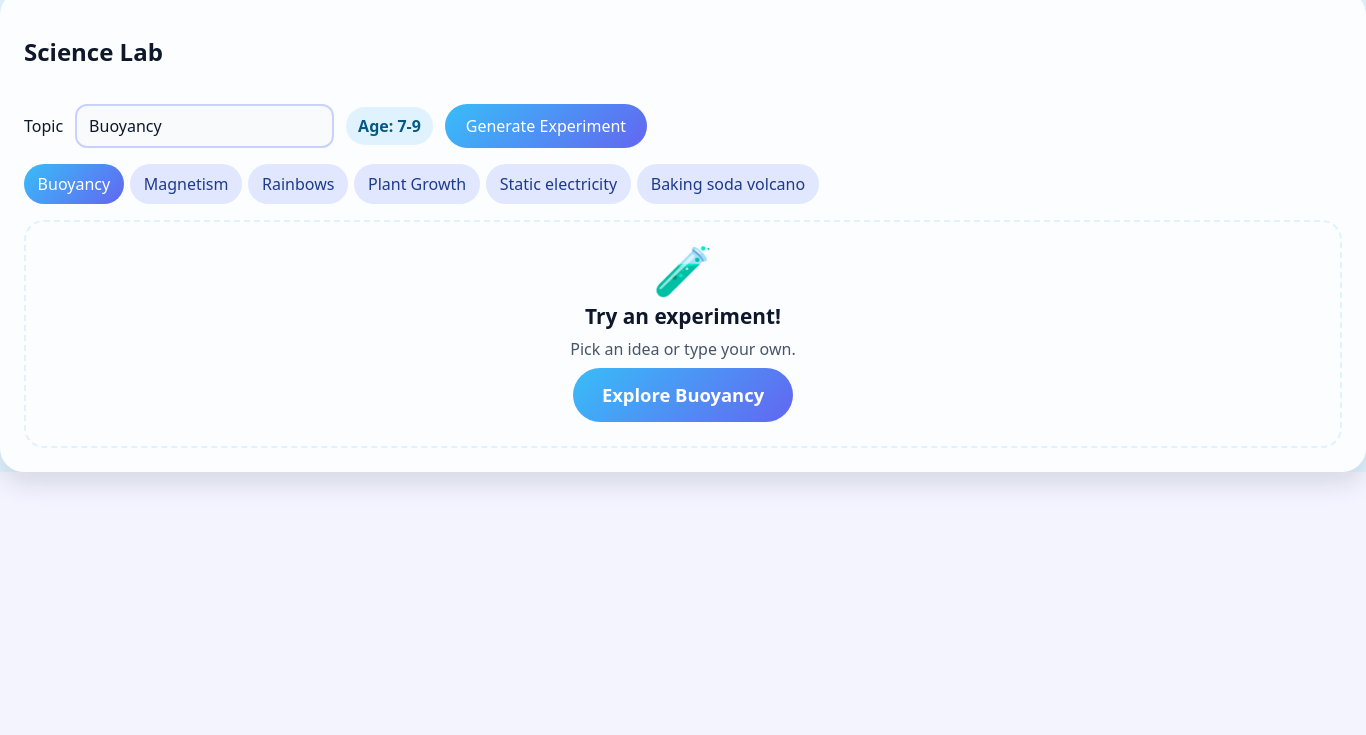
Test: ScienceLab step progression › returns from prediction to the final instruction step
The width and height of the screenshot is (1366, 735).
Click the button "Generate Experiment" at (546, 126), box [445,104,647,148]
(page scrolled)
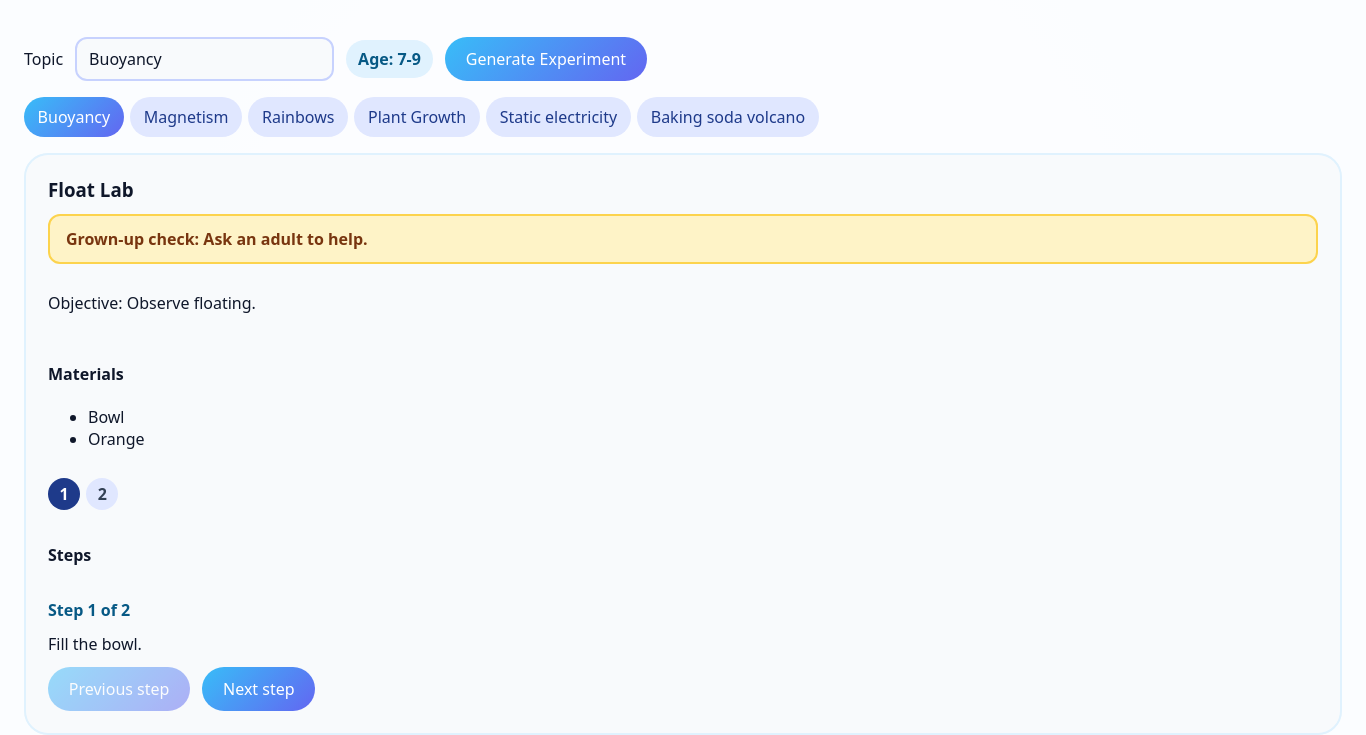
Result: the heading "Float Lab" is shown at [48,177,134,202]
Click the button "Next step" at (259, 689), box [202,667,315,711]
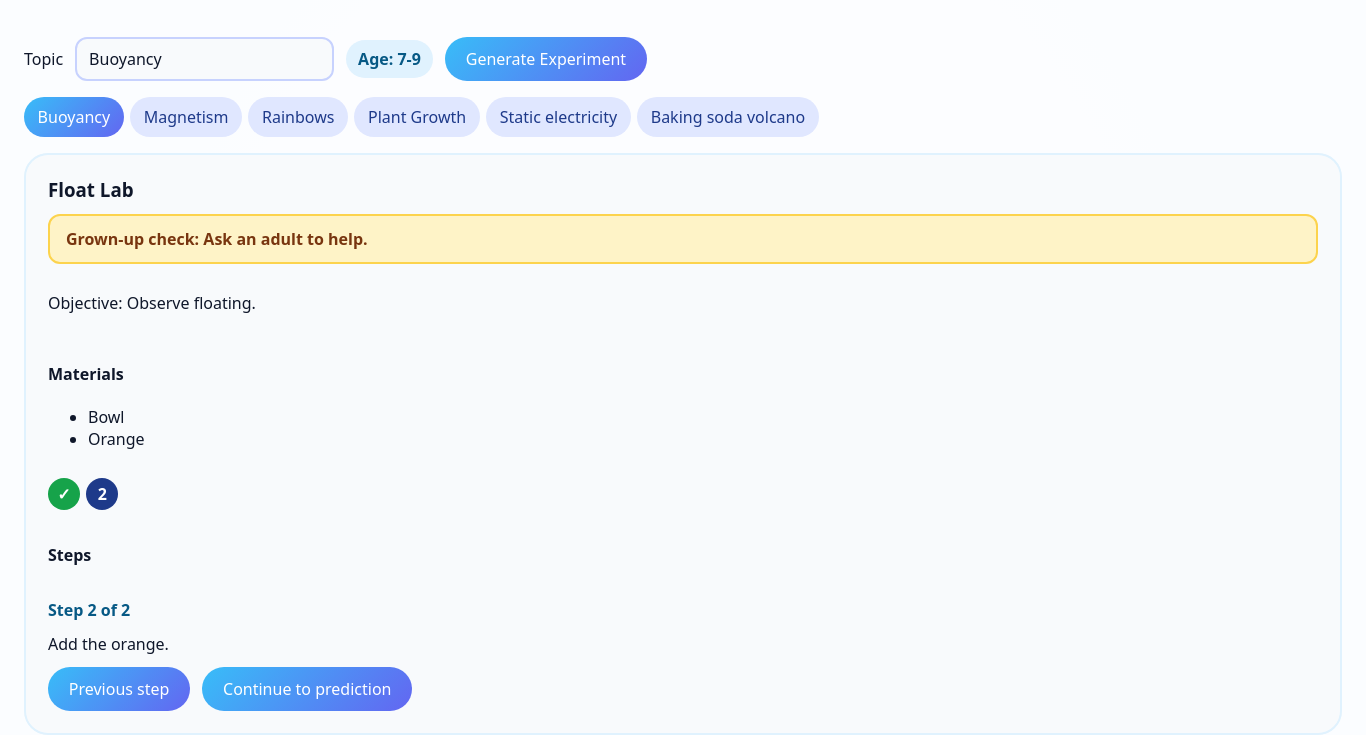
Click the button "Continue to prediction" at (307, 689), box [202,667,412,711]
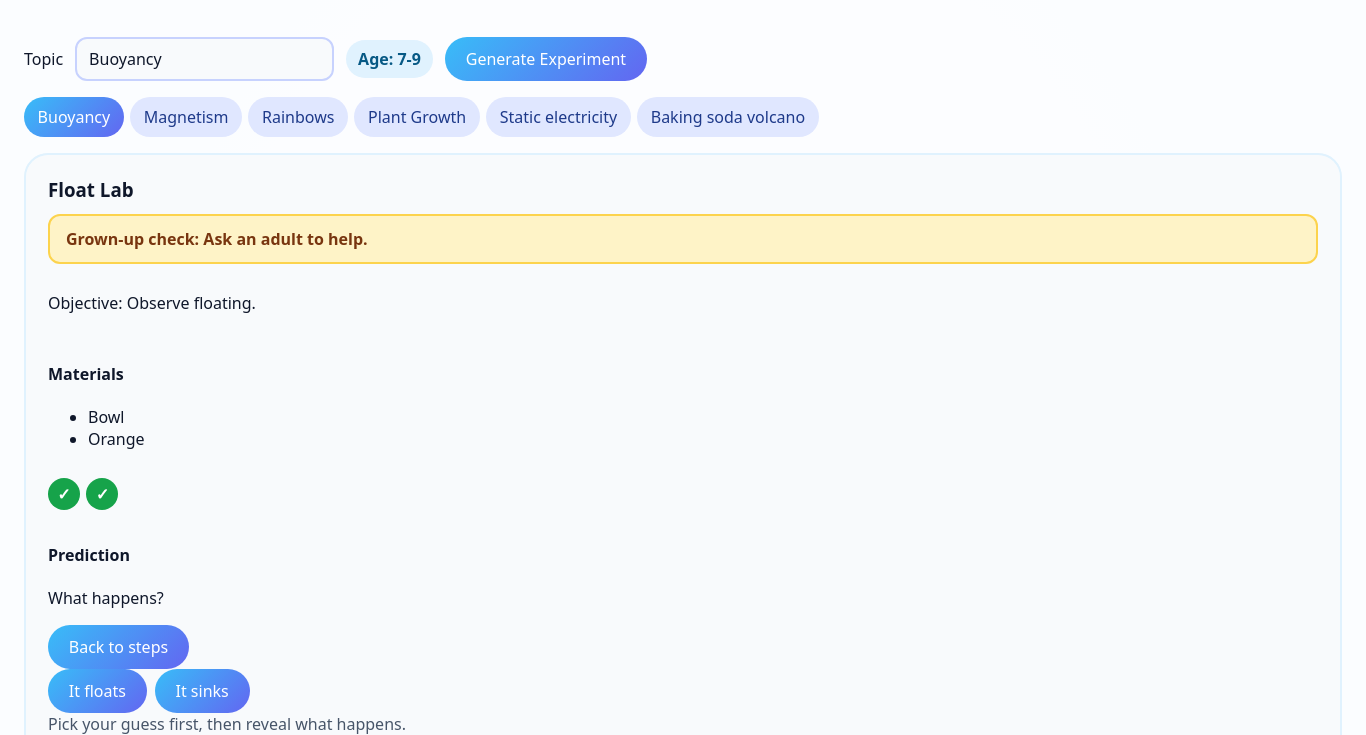
Click the button "Back to steps" at (118, 647), box [48,625,189,669]
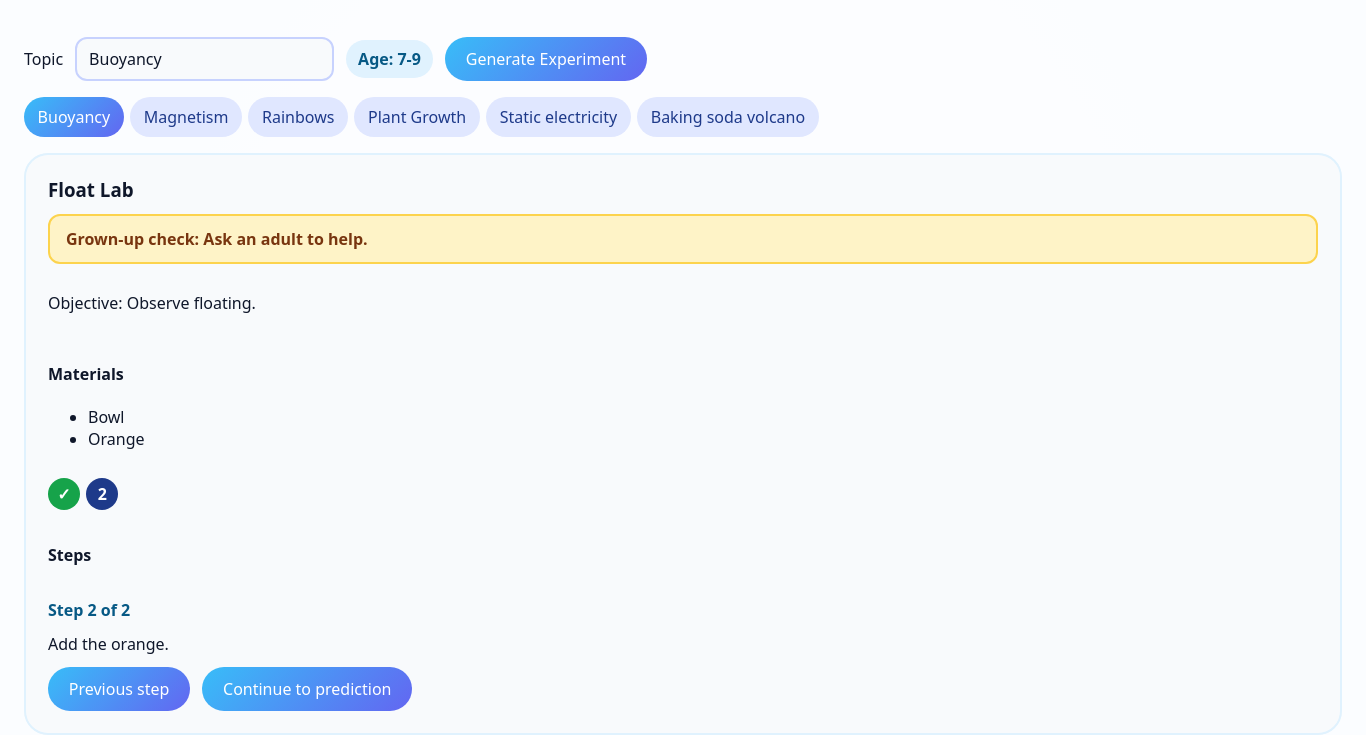
Result: the text "Step 2 of 2" is shown at [48,599,130,621]
Result: the text "Add the orange." is shown at [48,633,169,655]
Result: the text "What happens?" is gone
